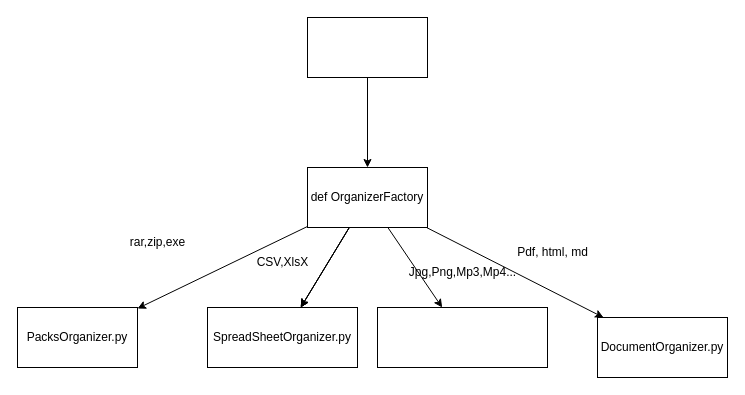
Image size: 745x395. Some labels were removed from this diagram. Each missing label, with the centre of its shape:
"MediaOrganizer.py" goes at [462,337].
"OrganizeFacade.py" goes at [367,47].
